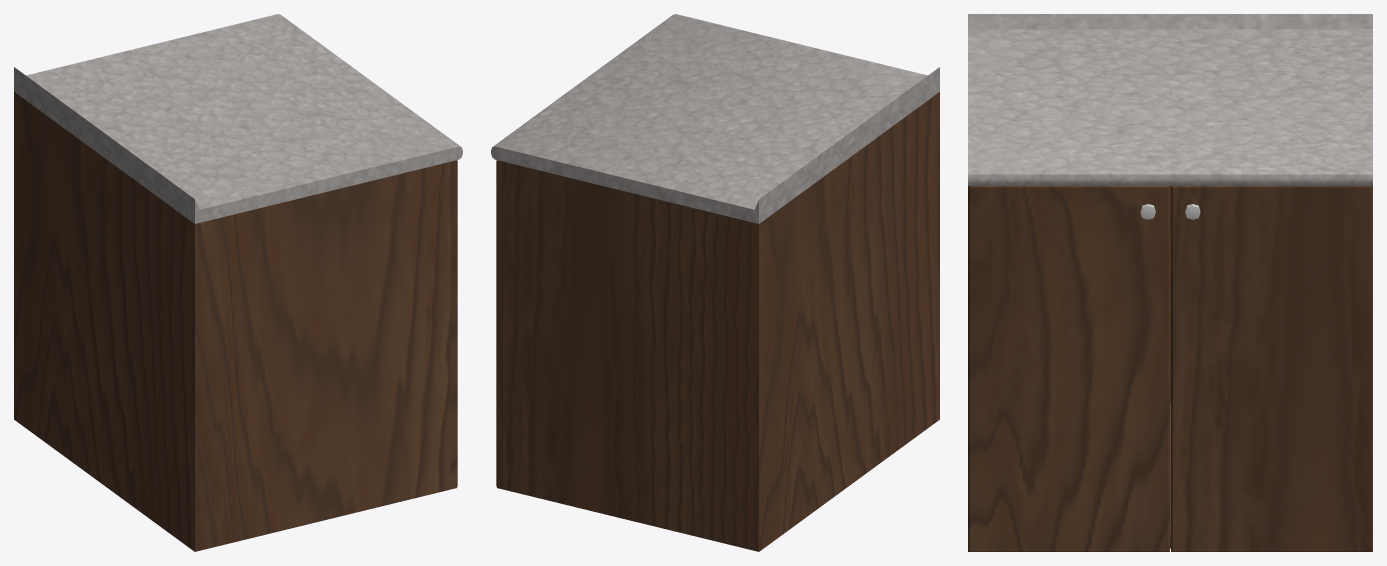
File: Cabinet1.glb
3 views of the same model, side by side, from view 1: azimuth 30°, elevation 25°; view 2: azimuth 150°, elevation 25°; view 3: azimuth 270°, elevation 25° (orthographic). The views are drawn at different scales.
Parts seen in each view (by area): view 1: KitchenCabinet1; view 2: KitchenCabinet1; view 3: KitchenCabinet1.
Boxes of the visible parts, <box> form: KitchenCabinet1: <box>14,14,462,551</box>; KitchenCabinet1: <box>491,14,939,551</box>; KitchenCabinet1: <box>968,14,1372,551</box>.
Bounding box in the file's own units: 0.6921 × 0.8606 × 0.8.
Materials: 1 (1 with a texture image).
